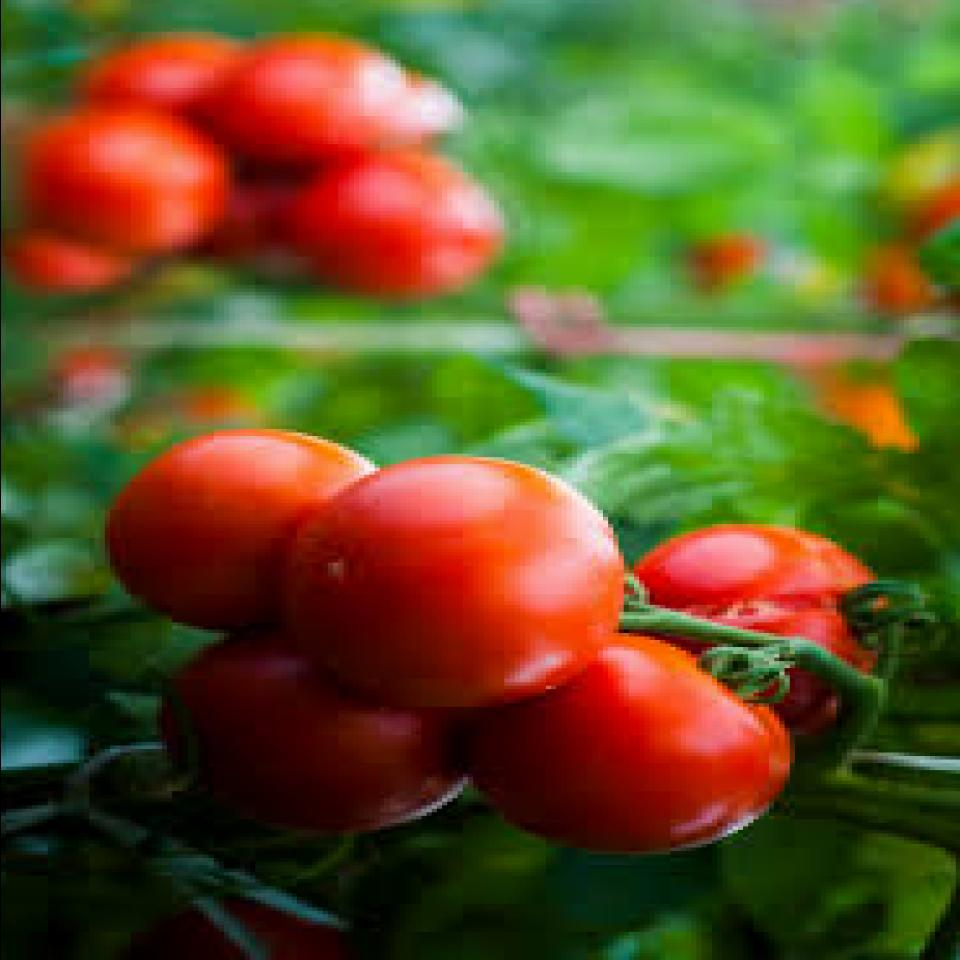Spotted wilt Virus: (275, 454, 623, 707)
